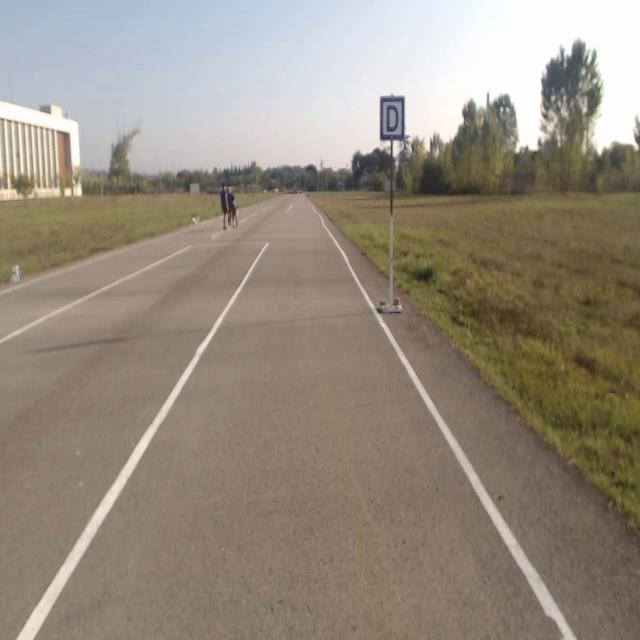durak: (380, 97, 404, 139)
